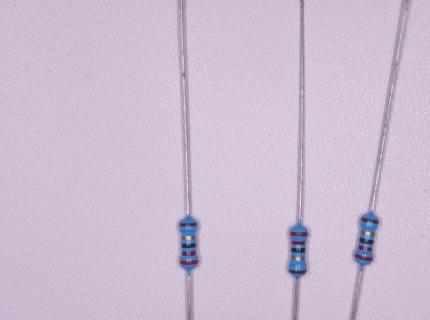Red band: (355, 253, 373, 261), (180, 259, 198, 264), (290, 231, 308, 236), (358, 245, 372, 251), (182, 251, 196, 256), (292, 241, 306, 245)
